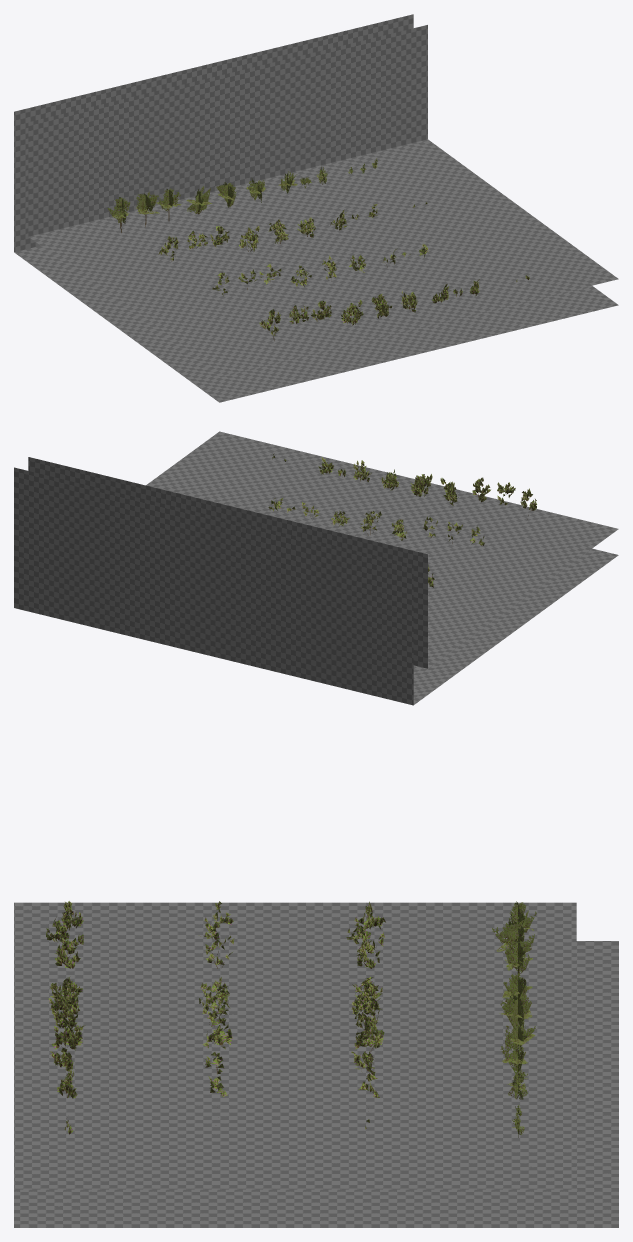
The model's file is lp_lilac.fbx.
3 views of the same model, one above another, from view 1: azimuth 30°, elevation 25°; view 2: azimuth 150°, elevation 25°; view 3: azimuth 270°, elevation 25° (orthographic). The views are drawn at different scales.
Parts seen in each view (by area): view 1: lp_lilac_LOD0; view 2: lp_lilac_LOD0; view 3: lp_lilac_LOD0.
Boxes of the visible parts, bbox=[...] form: lp_lilac_LOD0: bbox=[14, 14, 618, 402]; lp_lilac_LOD0: bbox=[14, 431, 618, 705]; lp_lilac_LOD0: bbox=[14, 901, 618, 1227].
Size of what is drawn, in the model's own units: 80 by 26.91 by 71.28.
15 materials, 15 textured.
